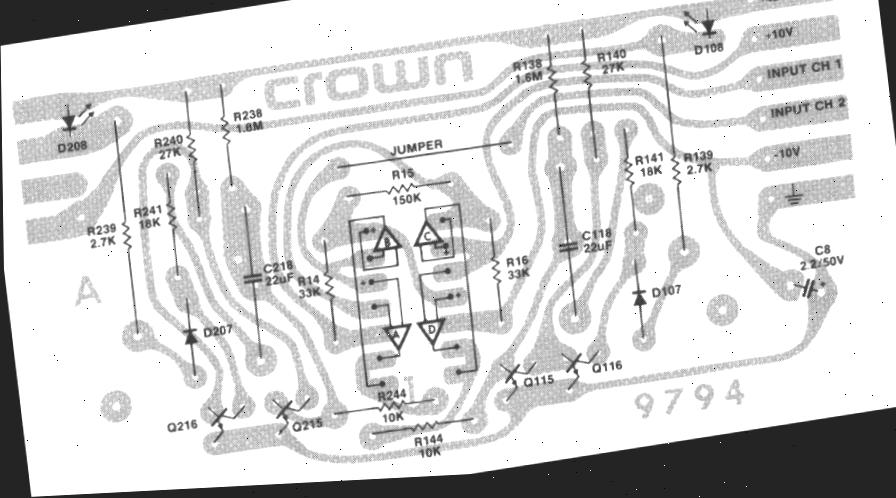compo_name: (762, 87, 854, 130), (761, 47, 847, 91), (634, 273, 690, 311), (577, 349, 632, 387), (281, 406, 333, 445), (382, 129, 448, 159), (792, 247, 852, 280), (155, 408, 206, 445), (192, 314, 240, 349), (368, 377, 416, 412), (513, 365, 560, 398), (47, 131, 93, 164), (385, 183, 428, 213), (677, 156, 721, 185), (765, 134, 806, 165), (80, 213, 122, 243), (574, 218, 616, 248), (761, 16, 800, 48), (407, 424, 451, 452), (575, 234, 619, 262), (627, 143, 671, 171), (688, 34, 729, 64), (125, 196, 168, 224), (589, 40, 633, 67), (675, 140, 720, 166), (504, 51, 549, 76), (257, 266, 297, 294), (150, 140, 189, 168), (228, 117, 273, 141), (81, 229, 122, 255), (255, 253, 299, 277), (146, 126, 190, 150), (228, 100, 268, 126), (290, 280, 327, 308), (289, 266, 328, 292), (506, 66, 550, 89), (633, 160, 670, 186), (375, 404, 411, 429), (499, 262, 536, 286), (384, 162, 420, 186), (411, 443, 448, 466), (132, 212, 167, 236), (807, 234, 838, 261), (501, 248, 534, 272), (749, 0, 793, 16)
